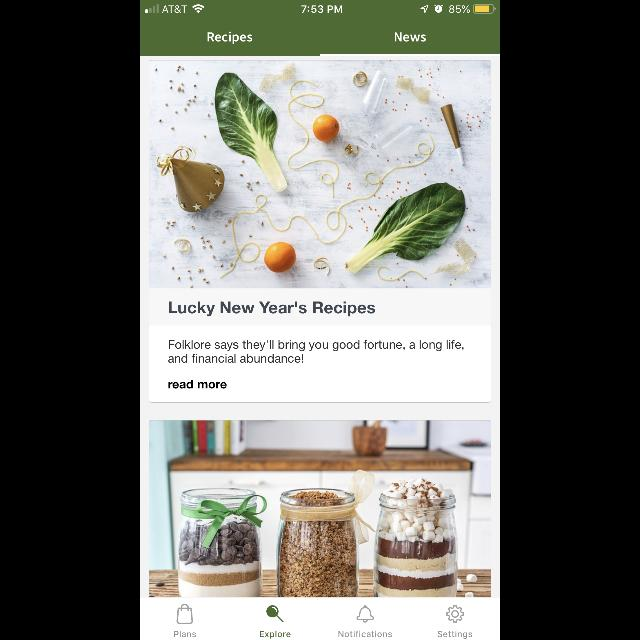icon: (176, 604, 194, 624), (266, 606, 284, 622), (356, 606, 374, 622), (446, 606, 464, 622)
image: (150, 61, 490, 289), (150, 421, 490, 597)
text: (168, 340, 464, 362), (169, 302, 375, 316), (208, 32, 252, 44), (169, 379, 227, 388), (338, 630, 392, 638), (394, 32, 426, 42), (438, 631, 472, 639), (260, 631, 290, 639), (174, 631, 196, 637)
uppertaskbar: (140, 0, 500, 14)
